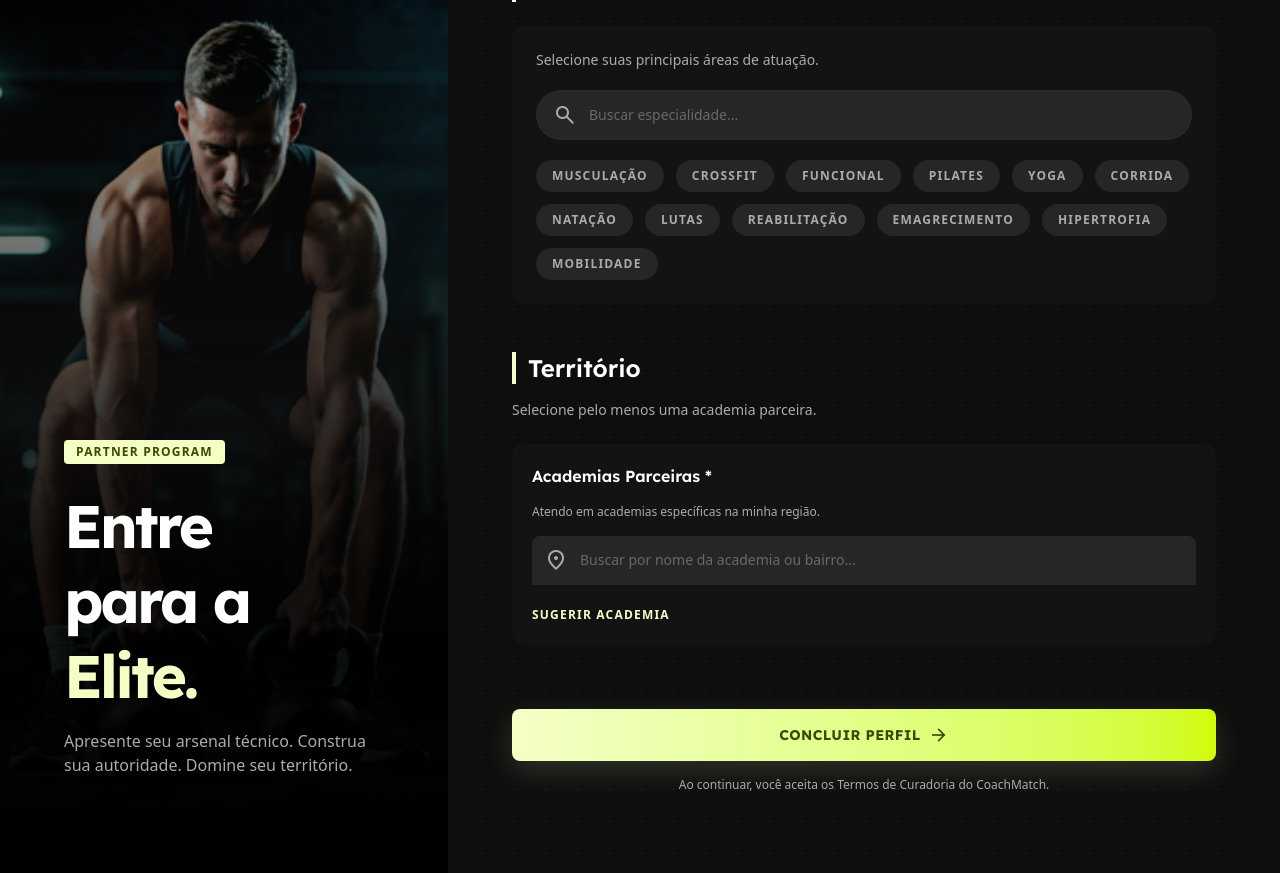
Test case: CoachOnboardingPage › mostra erro de validação ao tentar concluir perfil vazio
(page scrolled)
Click the button "CONCLUIR PERFIL". click: [864, 735]
box: [512, 709, 1216, 761]
(page scrolled)
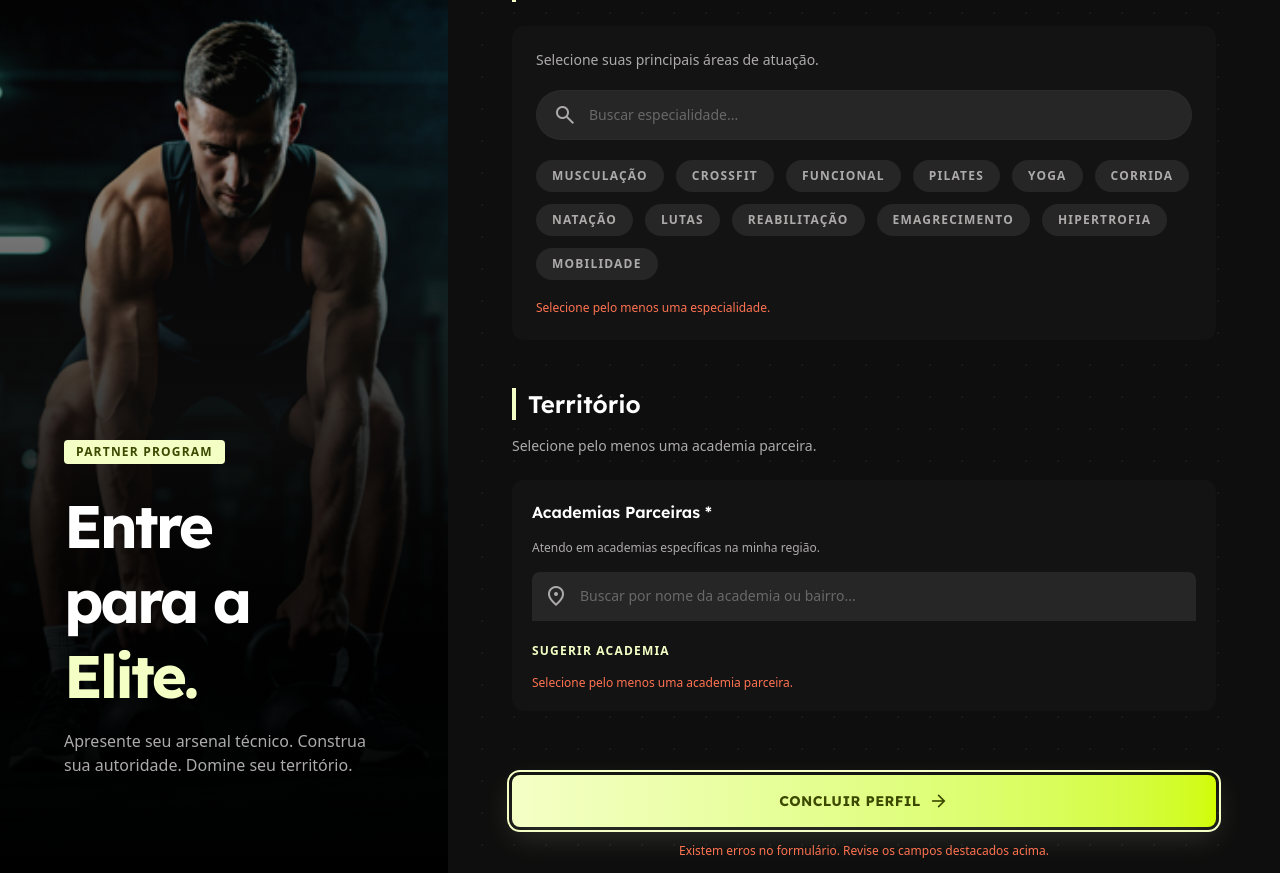
Check: the text "Existem erros no formulário" is shown, box [679, 842, 1049, 859]
